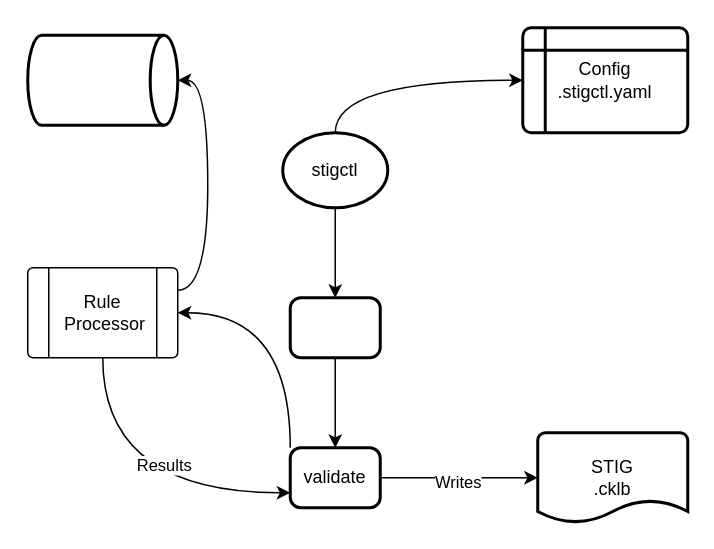
The diagram is 714 pixels wide and 549 high, and some of its shapes have lost their labels. The box of each missing label's shape, as (x1, y1, x2, y2) in pixels:
checklist: (288, 296, 381, 358)
OPA Kyverno Ansible Rules: (26, 33, 178, 126)
